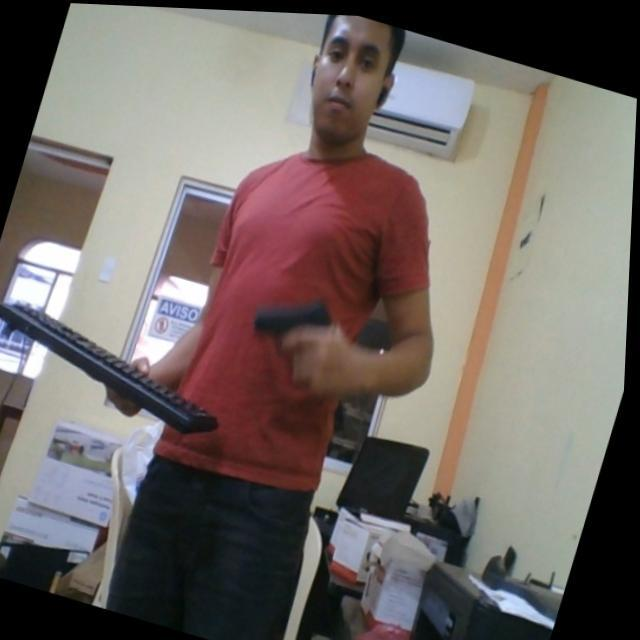weapon: (241, 274, 352, 384)
